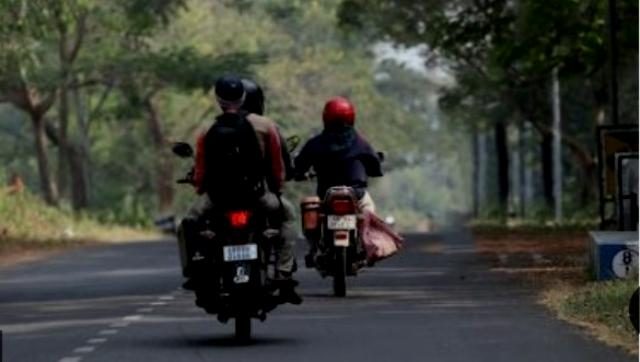licensePlate: (223, 242, 255, 261), (324, 215, 358, 229)
motorcycle: (160, 63, 294, 348), (296, 83, 393, 295)
withHelmet: (206, 79, 247, 114), (321, 99, 355, 130), (244, 75, 264, 112)
